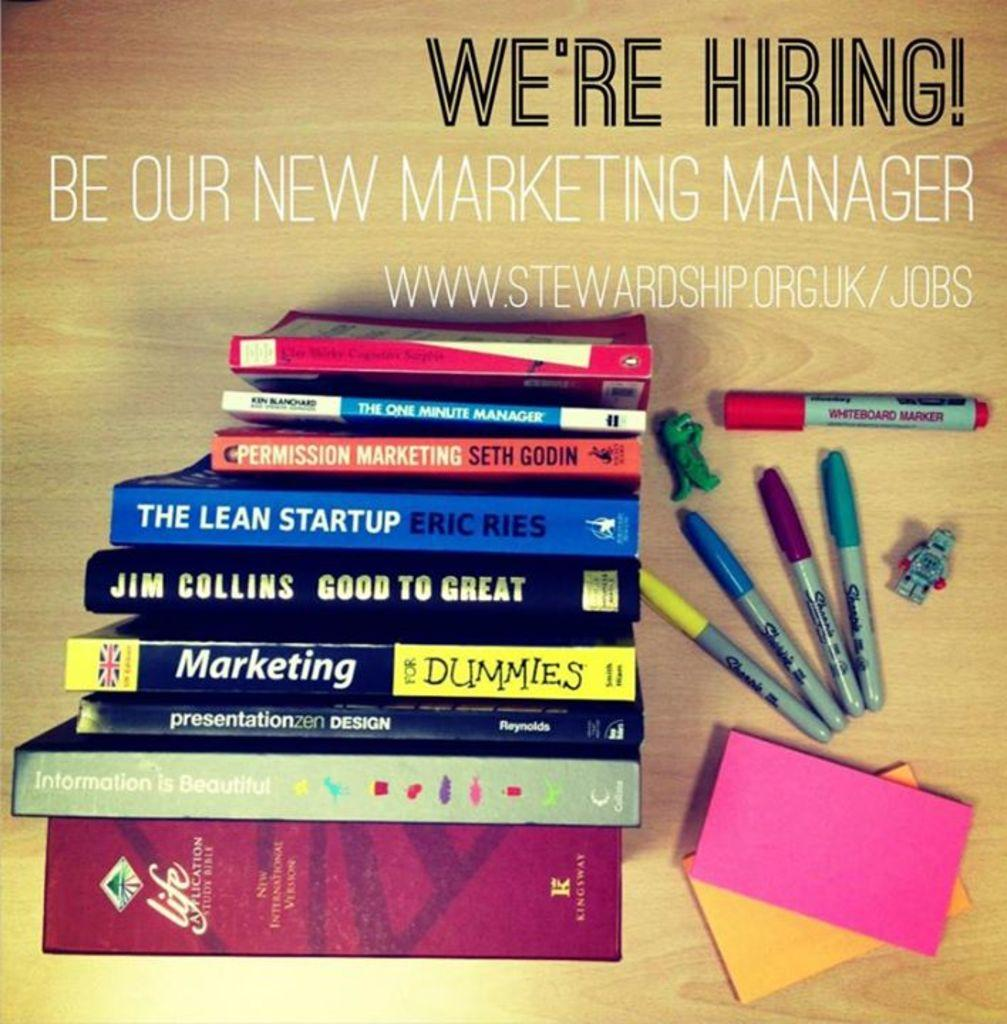pen: (683, 509, 852, 735), (630, 565, 831, 742), (761, 468, 863, 720), (822, 442, 889, 713), (718, 387, 991, 435)
